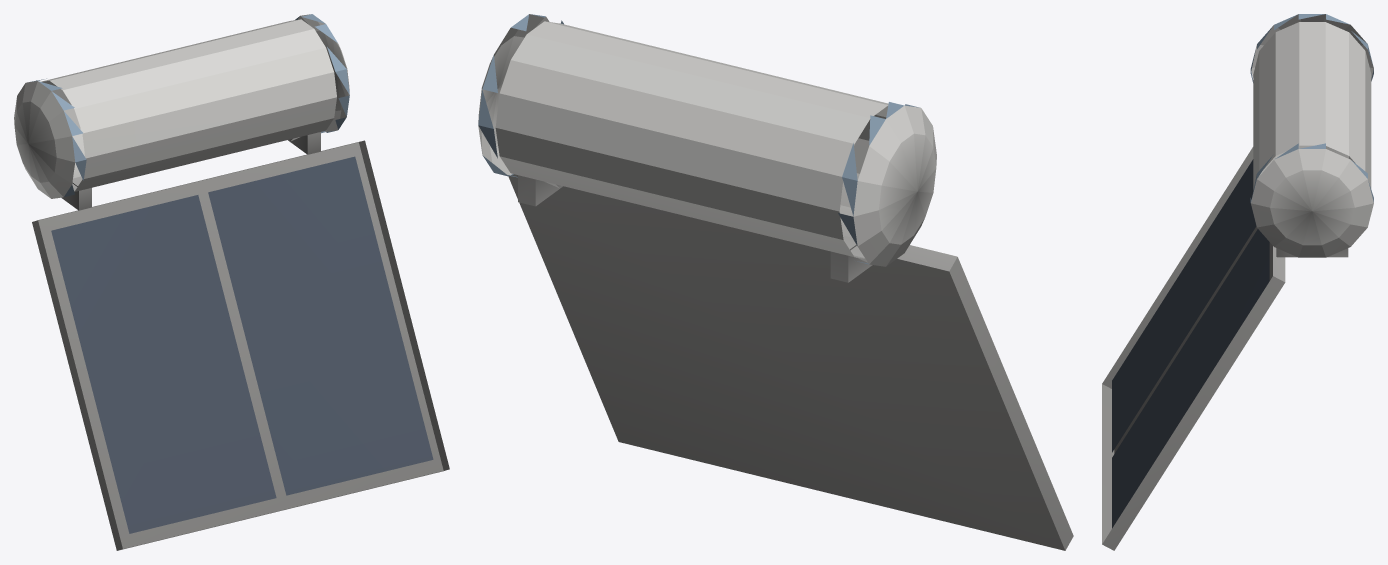
Rendered from solar.lod.glb.
3 renders of one model, left to right at view 1: azimuth 30°, elevation 25°; view 2: azimuth 150°, elevation 25°; view 3: azimuth 270°, elevation 25°, orthographic. The views are drawn at different scales.
Parts seen in each view (by area): view 1: solar; view 2: solar; view 3: solar.
Boxes of the visible parts, left/top/right/bottom form: solar: left=14, top=14, right=449, bottom=550; solar: left=478, top=14, right=1073, bottom=550; solar: left=1102, top=14, right=1373, bottom=550.
Bounding box in the file's own units: 2 × 2.26 × 1.43.
